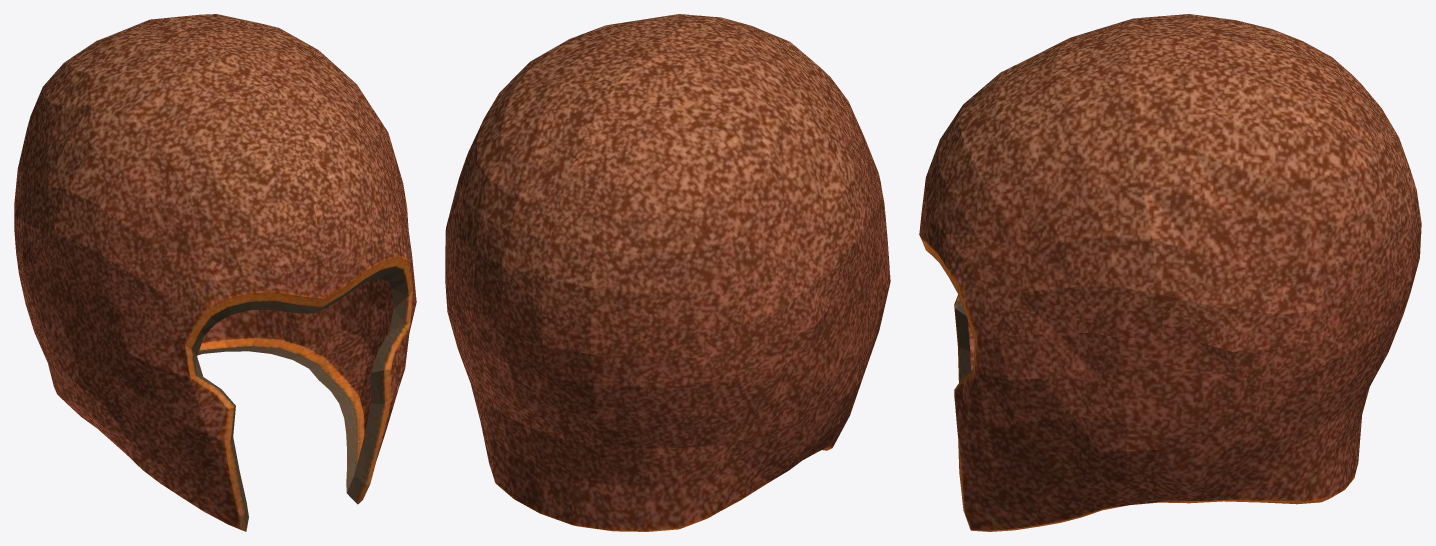
Rendered from mhw_maciekg_leather_helmet.glb.
3 views of the same model, side by side, from view 1: azimuth 30°, elevation 25°; view 2: azimuth 150°, elevation 25°; view 3: azimuth 270°, elevation 25° (orthographic). The views are drawn at different scales.
Visible parts, largest first — view 1: mhw_maciekg_leather_helmet; view 2: mhw_maciekg_leather_helmet; view 3: mhw_maciekg_leather_helmet.
Boxes of the visible parts, box(x1,y1,x2,y2) form: mhw_maciekg_leather_helmet: box(14, 14, 416, 531); mhw_maciekg_leather_helmet: box(445, 14, 890, 531); mhw_maciekg_leather_helmet: box(919, 14, 1421, 531).
Size of the model in its own units: 0.1911 by 0.227 by 0.2229.
1 material, 1 textured.
